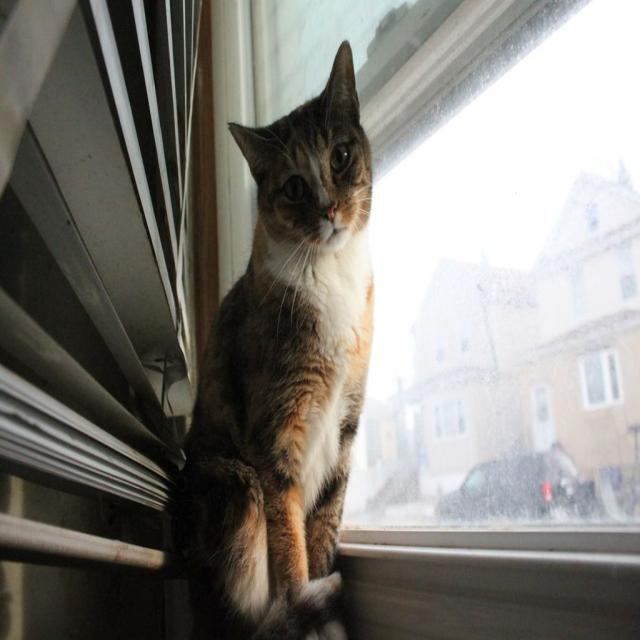Cat: (159, 39, 377, 638)
